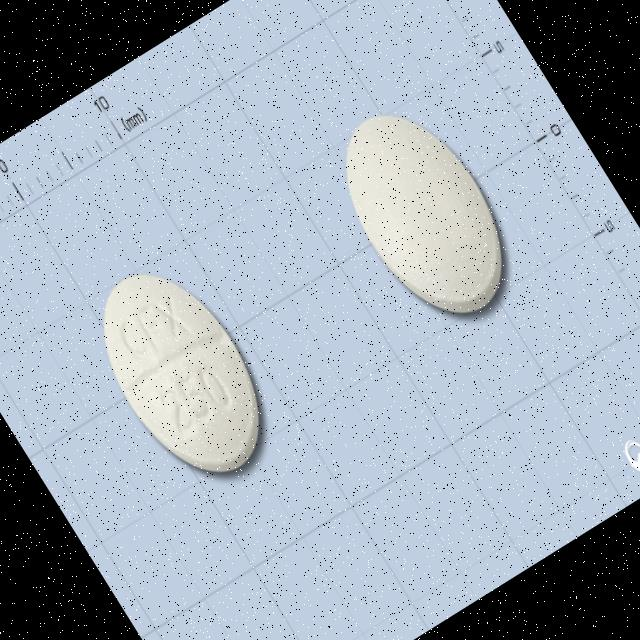Ciprofloxacin Tab- Pharma: (66, 236, 302, 506), (306, 78, 542, 348)
